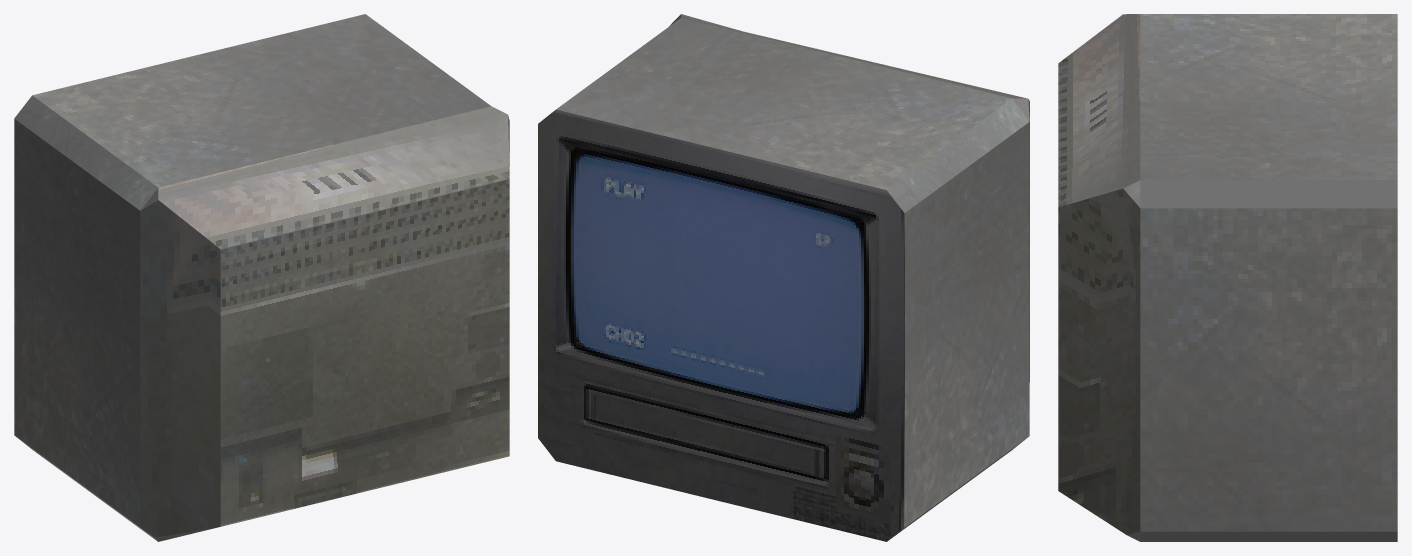
3 renders of one model, left to right at view 1: azimuth 30°, elevation 25°; view 2: azimuth 150°, elevation 25°; view 3: azimuth 270°, elevation 25°, orthographic. The views are drawn at different scales.
Visible parts, largest first — view 1: Cube.170; view 2: Cube.170; view 3: Cube.170.
Boxes of the visible parts, bbox=[...] form: Cube.170: bbox=[14, 14, 509, 541]; Cube.170: bbox=[538, 14, 1029, 541]; Cube.170: bbox=[1058, 14, 1397, 541].
Size of the model in its own units: 1.24 by 1.14 by 0.9657.
1 material, 1 textured.
